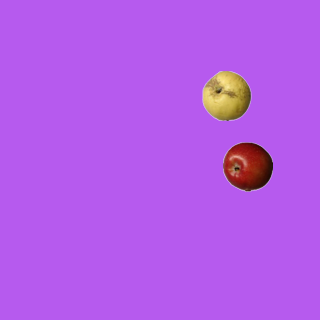Apple Braeburn: (222, 141, 272, 191)
Apple Golden 1: (201, 70, 251, 120)
